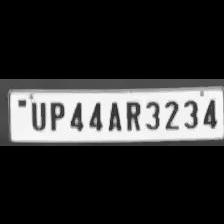2: (160, 96, 180, 128)
3: (180, 95, 200, 129), (142, 96, 162, 128)
4: (66, 97, 86, 131), (84, 97, 104, 131), (199, 94, 219, 128)
A: (104, 97, 122, 130)
P: (45, 98, 65, 130)
R: (122, 97, 142, 130)
U: (26, 98, 46, 130)
